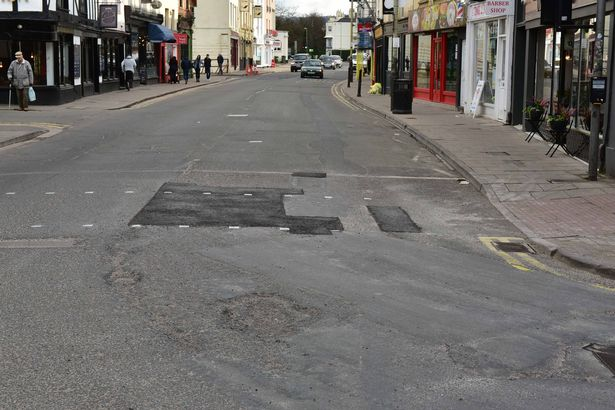pothole: (218, 288, 302, 349), (92, 256, 147, 288)
